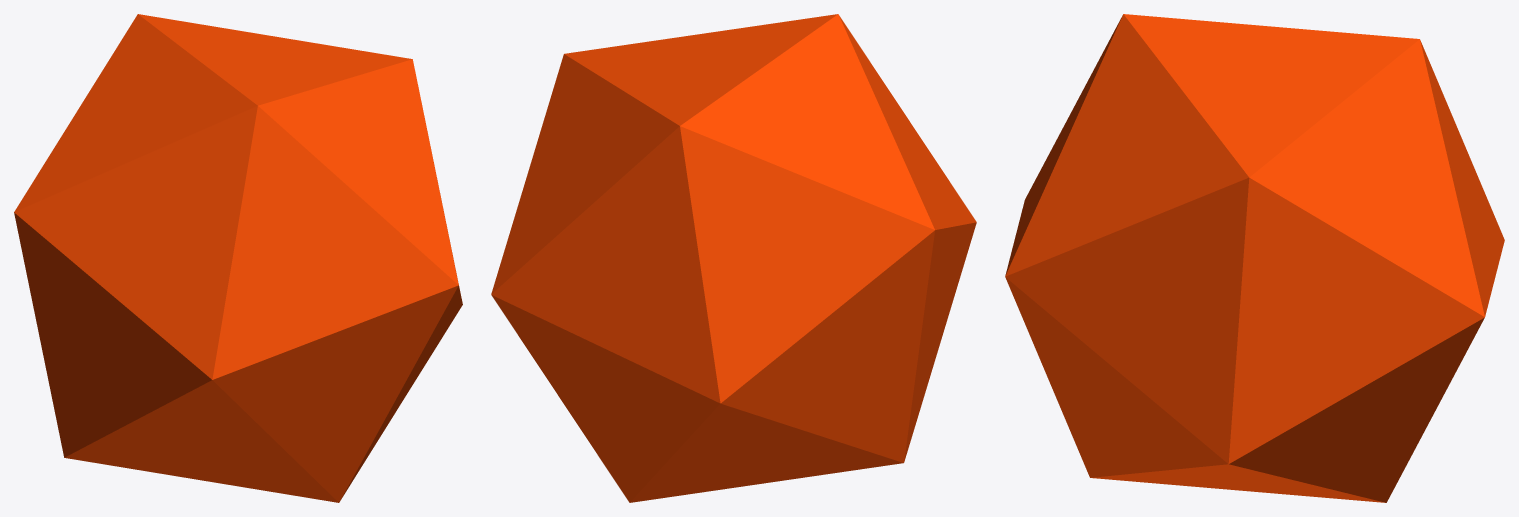
3 views of the same model, side by side, from view 1: azimuth 30°, elevation 25°; view 2: azimuth 150°, elevation 25°; view 3: azimuth 270°, elevation 25° (orthographic). The views are drawn at different scales.
Parts seen in each view (by area): view 1: FireTrail; view 2: FireTrail; view 3: FireTrail.
Part boxes in pixels (x1,y1,x2,y2): FireTrail: (14, 14, 462, 502); FireTrail: (491, 14, 976, 502); FireTrail: (1005, 14, 1504, 502).
Size of the model in its own units: 5.55 by 5.2 by 5.29.
